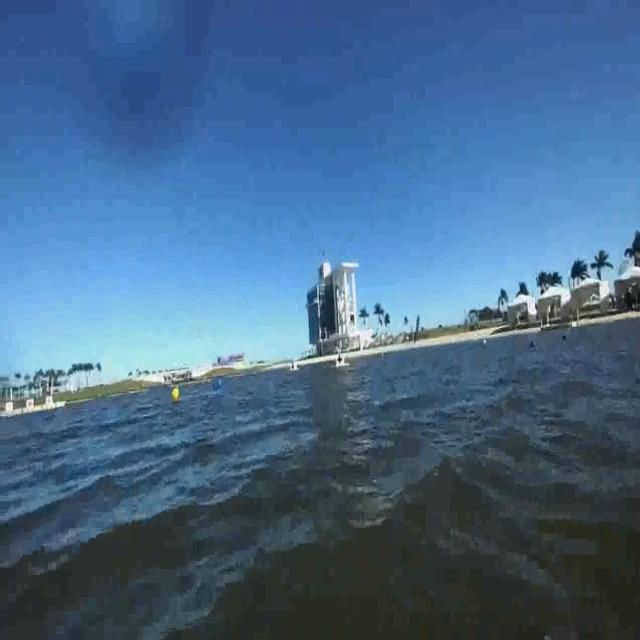blue-buoy: (213, 377, 224, 391)
yellow-buoy: (172, 385, 181, 403)
